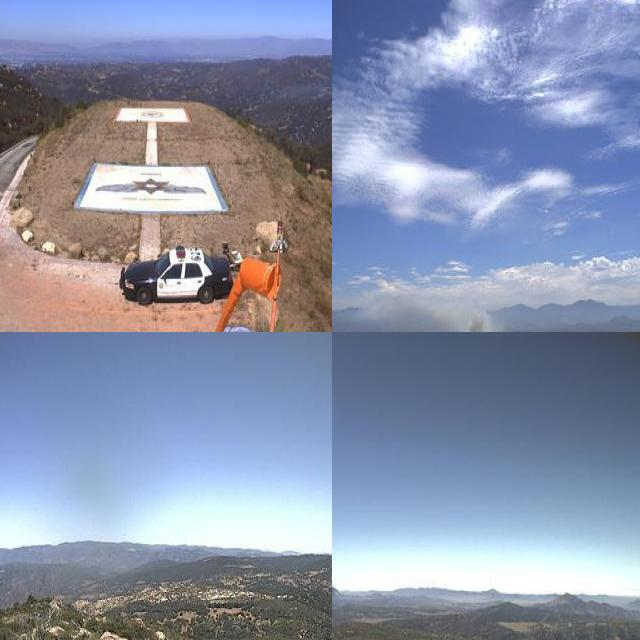smoke: (365, 280, 503, 332), (332, 567, 342, 609)
